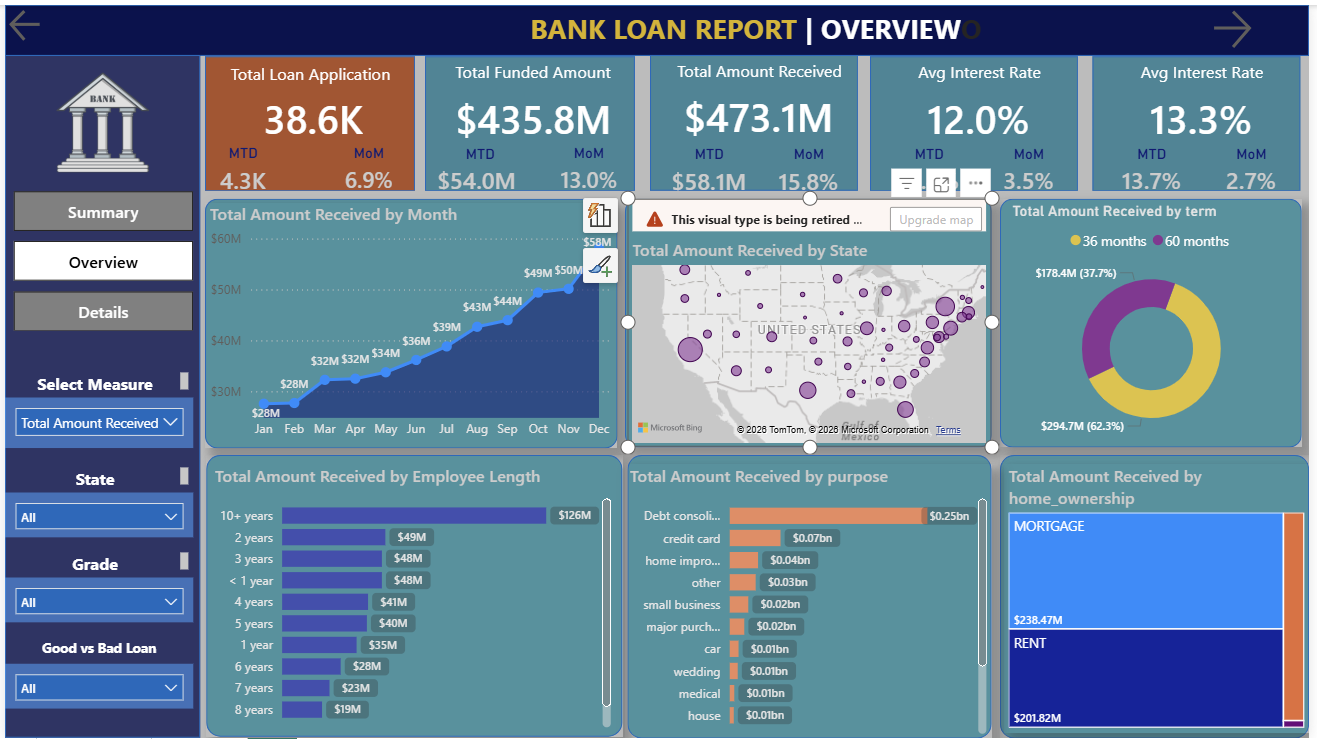

This screenshot's page, from the dashboard's own definition file:
{"tool":"powerbi","page":{"name":"Overview","canvas":[1280,720],"ordinal":1},"visuals":[{"type":"shape","box":[0,0,1280,50],"z":0},{"type":"shape","box":[633.2,49.1,204.1,133.2],"z":0,"group":"g3"},{"type":"shape","box":[412.2,50,206,132.3],"z":0,"group":"g4"},{"type":"shape","box":[849.4,50,204.1,132.3],"z":0,"group":"g6"},{"type":"shape","box":[195.9,50.3,206.1,132.3],"z":0,"group":"g5"},{"type":"shape","box":[1068,51,204.1,132.3],"z":0,"group":"g7"},{"type":"textbox","box":[0,449.4,184.8,29.2],"z":0,"group":"g8"},{"type":"textbox","box":[0,533,184.8,29.2],"z":0,"group":"g10"},{"type":"textbox","box":[0,616.7,184.8,29.2],"z":0,"group":"g9"},{"type":"cardVisual","fields":{"Data":["bank_loan_data.Total Amount Received"]},"box":[648.5,81,184.4,54.9],"z":1000,"group":"g3"},{"type":"cardVisual","fields":{"Data":["bank_loan_data.Total Funded Amount"]},"box":[425.7,81.7,186.1,54.5],"z":1000,"group":"g4"},{"type":"cardVisual","fields":{"Data":["bank_loan_data.Average Interate Rate"]},"box":[864.7,81.7,184.4,54.5],"z":1000,"group":"g6"},{"type":"cardVisual","fields":{"Data":["bank_loan_data.Total Loan Application"]},"box":[209.4,82,186.2,54.5],"z":1000,"group":"g5"},{"type":"cardVisual","fields":{"Data":["bank_loan_data.Average DTI"]},"box":[1083.3,82.7,184.4,54.5],"z":1000,"group":"g7"},{"type":"shape","box":[195.7,190.3,404.9,245.1],"z":1000},{"type":"slicer","fields":{"Values":["bank_loan_data.address_state"]},"box":[0,478.6,184.8,43.8],"z":1000,"group":"g8"},{"type":"slicer","fields":{"Values":["bank_loan_data.grade"]},"box":[0,562.2,184.8,43.8],"z":1000,"group":"g10"},{"type":"slicer","fields":{"Values":["bank_loan_data.Good Vs Bad Loan"]},"box":[0,645.9,184.8,43.8],"z":1000,"group":"g9"},{"type":"textbox","box":[636.7,47.7,208.1,33.3],"z":2000,"group":"g3"},{"type":"textbox","box":[413.7,48.6,210,33.1],"z":2000,"group":"g4"},{"type":"textbox","box":[852.9,48.6,208.1,33.1],"z":2000,"group":"g6"},{"type":"shape","box":[0,49.6,191.6,670.2],"z":2000},{"type":"textbox","box":[1071.5,49.6,208.1,33.1],"z":2000,"group":"g7"},{"type":"textbox","box":[202.8,50.9,192.6,36],"z":2000,"group":"g5"},{"type":"textbox","box":[193.6,0,1086.4,49.6],"z":3000},{"type":"cardVisual","title":"MTD ","fields":{"Data":["bank_loan_data.MTD Loan Application"]},"box":[197.4,136.5,72.7,45.7],"z":3000,"group":"g5"},{"type":"cardVisual","title":"MTD ","fields":{"Data":["bank_loan_data.MTD Total Amount Received"]},"box":[640,137.2,101.6,45.1],"z":3000,"group":"g3"},{"type":"cardVisual","title":"MTD ","fields":{"Data":["bank_loan_data.MTD Funded Amount"]},"box":[412.4,137.5,108.5,44.7],"z":3000,"group":"g4"},{"type":"cardVisual","title":"MTD ","fields":{"Data":["bank_loan_data.MTD Average Int Rate"]},"box":[856.2,137.5,101.6,44.7],"z":3000,"group":"g6"},{"type":"cardVisual","title":"MTD ","fields":{"Data":["bank_loan_data.MTD Average DTI"]},"box":[1074.8,138.5,101.6,44.7],"z":3000,"group":"g7"},{"type":"group","id":"g1","title":"Group 1","box":[195.9,50.3,206.1,132.3],"z":4000},{"type":"cardVisual","title":"MoM","fields":{"Data":["bank_loan_data.MoM Total Funded Amount"]},"box":[535.1,136.1,76.6,45.7],"z":4000,"group":"g4"},{"type":"cardVisual","title":"MoM","fields":{"Data":["bank_loan_data.MoM loan Application"]},"box":[318.9,136.5,76.7,45.7],"z":4000,"group":"g5"},{"type":"cardVisual","title":"MoM","fields":{"Data":["bank_loan_data.MoM Total Amount Received"]},"box":[744.6,137.2,88.7,45.1],"z":4000,"group":"g3"},{"type":"cardVisual","title":"MoM","fields":{"Data":["bank_loan_data.MoM Avg Int Rate"]},"box":[960.8,137.5,88.7,44.7],"z":4000,"group":"g6"},{"type":"cardVisual","title":"MoM","fields":{"Data":["bank_loan_data.MoM Avg DTI"]},"box":[1179.4,138.5,88.7,44.7],"z":4000,"group":"g7"},{"type":"group","id":"g2","title":"Group 1","box":[412.2,48.6,212,133.3],"z":5000},{"type":"group","id":"g3","title":"Group 2","box":[633.2,47.7,212,134.2],"z":6000},{"type":"group","id":"g4","title":"Group 2","box":[412.2,48.6,211.5,133.6],"z":6503,"group":"g2"},{"type":"group","id":"g5","title":"Group 2","box":[195.9,50.3,206.1,132.3],"z":6503,"group":"g1"},{"type":"group","id":"g6","title":"Group 2","box":[849.4,48.6,212,134.2],"z":7000},{"type":"group","id":"g7","title":"Group 2","box":[1068,49.6,212,134.2],"z":8000},{"type":"group","id":"g8","title":"Group 3","box":[0,449.4,184.8,72.9],"z":9000},{"type":"group","id":"g9","title":"Group 3","box":[0,616.7,184.8,72.9],"z":10000},{"type":"group","id":"g10","title":"Group 3","box":[0,533,184.8,72.9],"z":11000},{"type":"areaChart","fields":{"Y":["bank_loan_data.Total Amount Received"],"Category":["Date Table.Month"]},"box":[195.7,193.9,404,240.6],"z":12000},{"type":"shape","box":[608.7,190.3,360,244.2],"z":13000},{"type":"slicer","fields":{"Values":["Select Measure.Select Measure"]},"box":[0,385.2,184.8,49.6],"z":13000,"group":"g11"},{"type":"textbox","box":[0,356,184.8,29.2],"z":14000,"group":"g11"},{"type":"shape","box":[197.5,441.7,408.5,276.5],"z":14000},{"type":"shape","box":[976.8,190.3,296.3,244.2],"z":15000},{"type":"donutChart","fields":{"Y":["bank_loan_data.Total Amount Received"],"Category":["bank_loan_data.term"]},"box":[983.9,193.9,282.8,240.6],"z":16000},{"type":"shape","box":[611.4,441.7,357.3,278.3],"z":17000},{"type":"shape","box":[976.8,441.7,303.4,278.3],"z":18000},{"type":"barChart","fields":{"Y":["bank_loan_data.Total Amount Received"],"Category":["bank_loan_data.emp_length"]},"box":[201.1,449.8,398.6,263.9],"z":19000},{"type":"barChart","fields":{"Y":["bank_loan_data.Total Amount Received"],"Category":["bank_loan_data.purpose"]},"box":[608.7,449.8,360,270.2],"z":20000},{"type":"treemap","fields":{"Values":["bank_loan_data.Total Amount Received"],"Group":["bank_loan_data.home_ownership"]},"box":[980.3,449.8,299.9,263.9],"z":21000},{"type":"pageNavigator","box":[8.1,183.1,176.9,138.3],"z":22000},{"type":"image","box":[0,50.6,191.6,129.4],"z":23000},{"type":"group","id":"g11","title":"Group 4","box":[0,356,184.8,78.8],"z":24000},{"type":"actionButton","box":[0,0,100,40],"z":25000},{"type":"actionButton","box":[1179.8,0,100.2,47.7],"z":26000},{"type":"map","fields":{"Size":["bank_loan_data.Total Amount Received"],"Category":["bank_loan_data.address_state"]},"box":[611.4,190.3,357.3,244.2],"z":27000}]}

Visuals, with their boxes in screenshot pixels (x1, y1, x2, y2), scaled from the page's 1280x720 canvas onto the 1317x739 screenshot:
shape: 0 0 1316 51
shape: 652 50 862 187
shape: 424 51 636 187
shape: 874 51 1084 187
shape: 202 52 414 187
shape: 1099 52 1309 188
textbox: 0 461 190 491
textbox: 0 547 190 577
textbox: 0 633 190 663
cardVisual - bank_loan_data.Total Amount Received: 667 83 857 139
cardVisual - bank_loan_data.Total Funded Amount: 438 84 629 140
cardVisual - bank_loan_data.Average Interate Rate: 890 84 1079 140
cardVisual - bank_loan_data.Total Loan Application: 215 84 407 140
cardVisual - bank_loan_data.Average DTI: 1115 85 1304 141
shape: 201 195 618 447
slicer - bank_loan_data.address_state: 0 491 190 536
slicer - bank_loan_data.grade: 0 577 190 622
slicer - bank_loan_data.Good Vs Bad Loan: 0 663 190 708
textbox: 655 49 869 83
textbox: 426 50 642 84
textbox: 878 50 1092 84
shape: 0 51 197 738
textbox: 1102 51 1316 85
textbox: 209 52 407 89
textbox: 199 0 1316 51
"MTD " cardVisual: 203 140 278 187
"MTD " cardVisual: 658 141 763 187
"MTD " cardVisual: 424 141 536 187
"MTD " cardVisual: 881 141 985 187
"MTD " cardVisual: 1106 142 1210 188
"Group 1" group: 202 52 414 187
"MoM" cardVisual: 551 140 629 187
"MoM" cardVisual: 328 140 407 187
"MoM" cardVisual: 766 141 857 187
"MoM" cardVisual: 989 141 1080 187
"MoM" cardVisual: 1213 142 1305 188
"Group 1" group: 424 50 642 187
"Group 2" group: 652 49 870 187
"Group 2" group: 424 50 642 187
"Group 2" group: 202 52 414 187
"Group 2" group: 874 50 1092 188
"Group 2" group: 1099 51 1316 189
"Group 3" group: 0 461 190 536
"Group 3" group: 0 633 190 708
"Group 3" group: 0 547 190 622
areaChart - bank_loan_data.Total Amount Received x Date Table.Month: 201 199 617 446
shape: 626 195 997 446
slicer - Select Measure.Select Measure: 0 395 190 446
textbox: 0 365 190 395
shape: 203 453 624 737
shape: 1005 195 1310 446
donutChart - bank_loan_data.Total Amount Received x bank_loan_data.term: 1012 199 1303 446
shape: 629 453 997 738
shape: 1005 453 1316 738
barChart - bank_loan_data.Total Amount Received x bank_loan_data.emp_length: 207 462 617 733
barChart - bank_loan_data.Total Amount Received x bank_loan_data.purpose: 626 462 997 738
treemap - bank_loan_data.Total Amount Received x bank_loan_data.home_ownership: 1009 462 1316 733
pageNavigator: 8 188 190 330
image: 0 52 197 185
"Group 4" group: 0 365 190 446
actionButton: 0 0 103 41
actionButton: 1214 0 1316 49
map - bank_loan_data.Total Amount Received x bank_loan_data.address_state: 629 195 997 446
